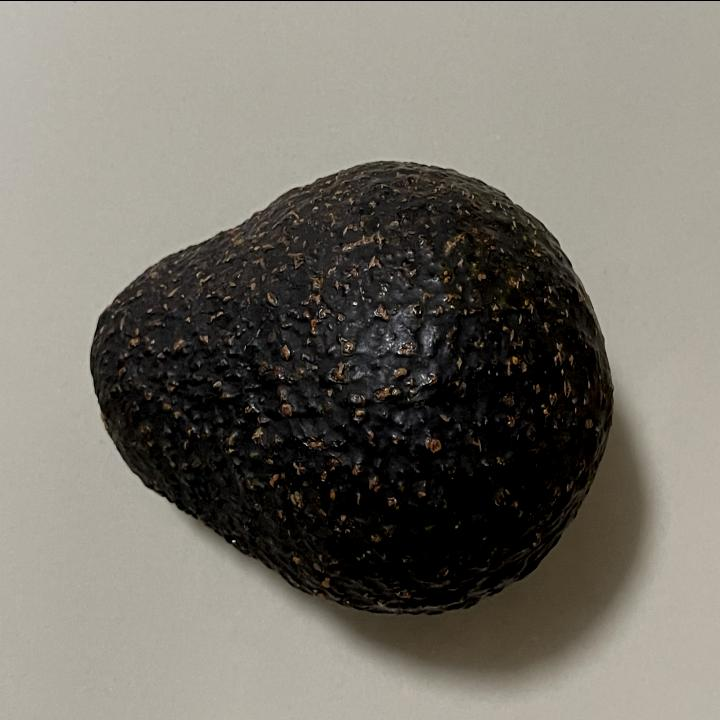Level2: (80, 154, 618, 625)
